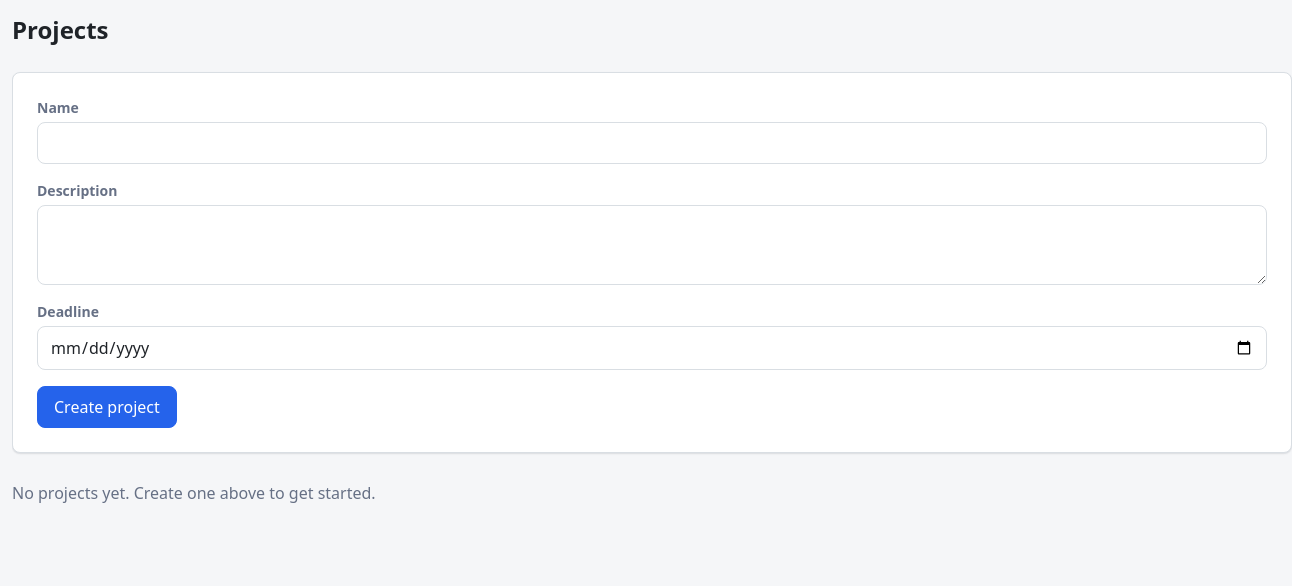
Test case: ProjectsPage › shows a friendly message for a backend Deadline validation error, not "Validation failed."
The image size is (1292, 586).
Expected: the text "No projects yet. Create one above to get started." is shown, x1=12 y1=482 x2=376 y2=504
Type "Demo Project" into the field labelled "Name" at x=652, y=143, box x1=37 y1=122 x2=1267 y2=164
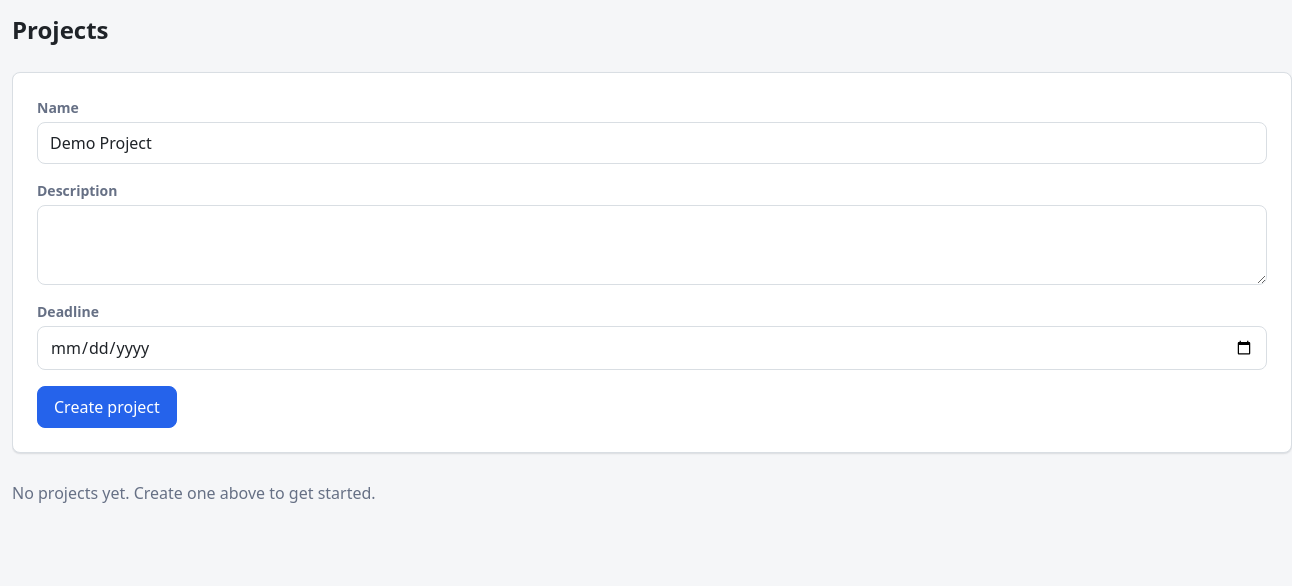
Click the button "Create project" at x=107, y=407, box x1=37 y1=386 x2=177 y2=428
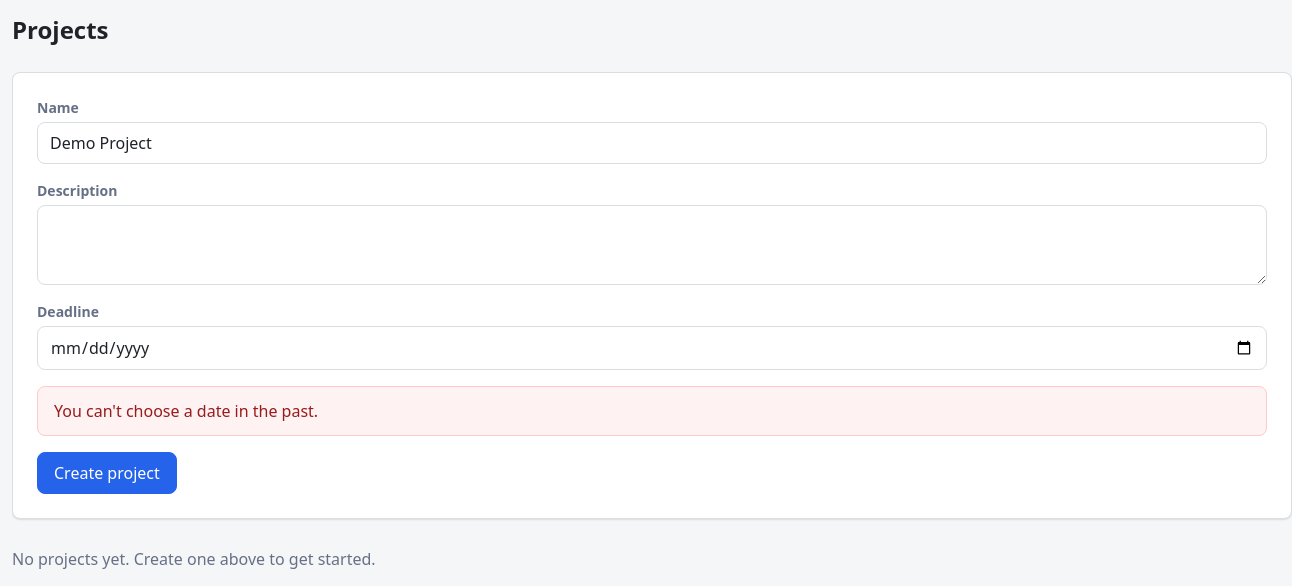
Expected: the message does not show "Validation failed.", x1=37 y1=386 x2=1267 y2=436
Expected: the message reads "You can't choose a date in the past.", x1=54 y1=400 x2=318 y2=422
